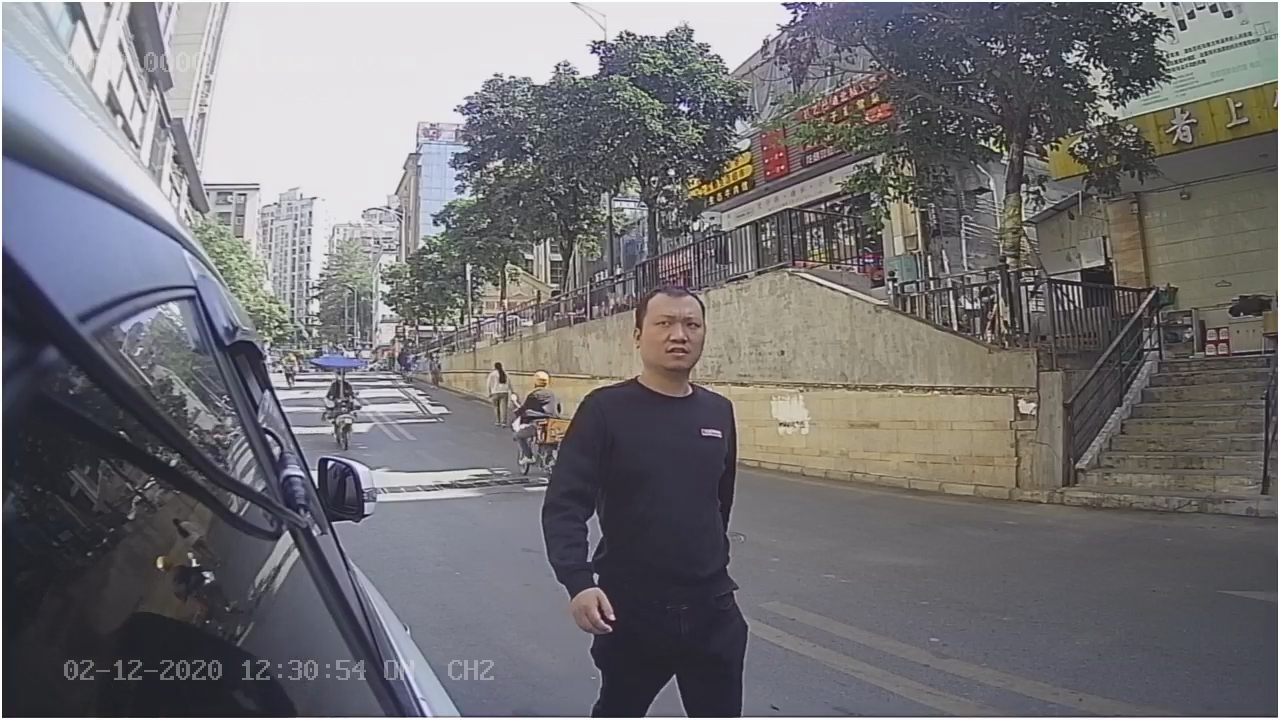person: (531, 287, 771, 633)
